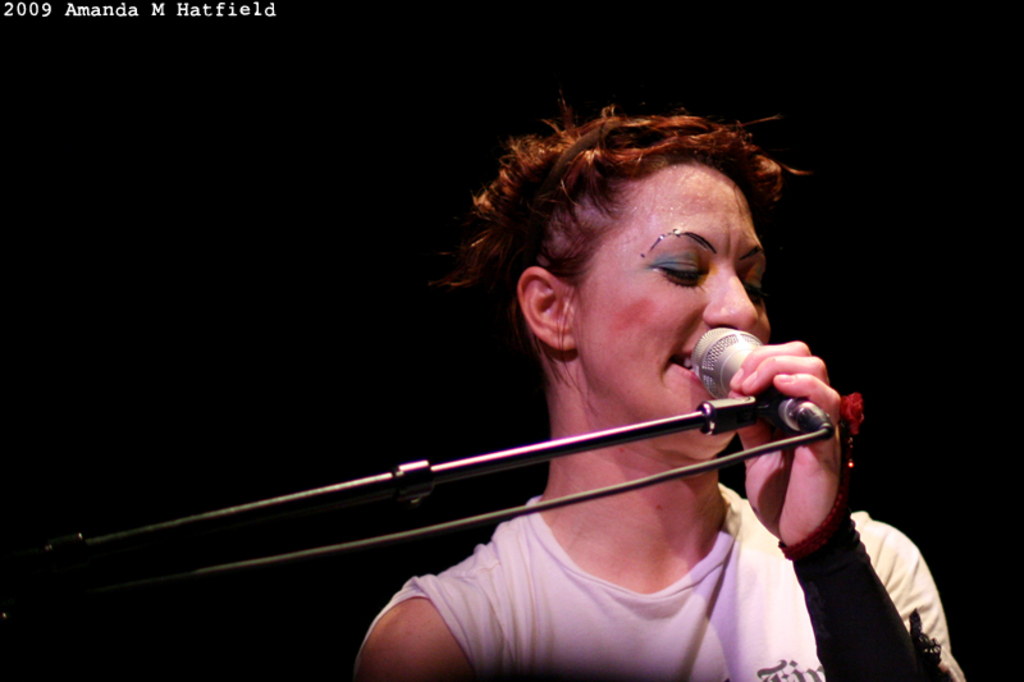Person: (356, 87, 966, 681)
